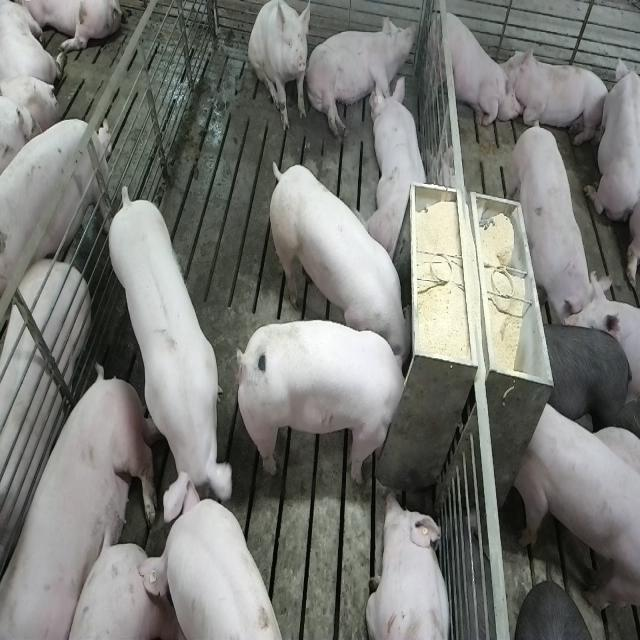Feeding: (264, 160, 412, 364), (232, 317, 408, 483)
Lateral_lying: (5, 367, 158, 640), (304, 13, 418, 141)
Sitting: (422, 2, 510, 137), (248, 2, 312, 134)
Standing: (105, 188, 229, 531), (0, 261, 90, 607), (514, 395, 638, 617), (512, 112, 614, 333), (0, 110, 109, 308), (148, 496, 286, 640), (542, 318, 636, 442)
Sternal_lying: (366, 489, 452, 640), (368, 72, 431, 260), (507, 44, 610, 146), (584, 48, 638, 226)
